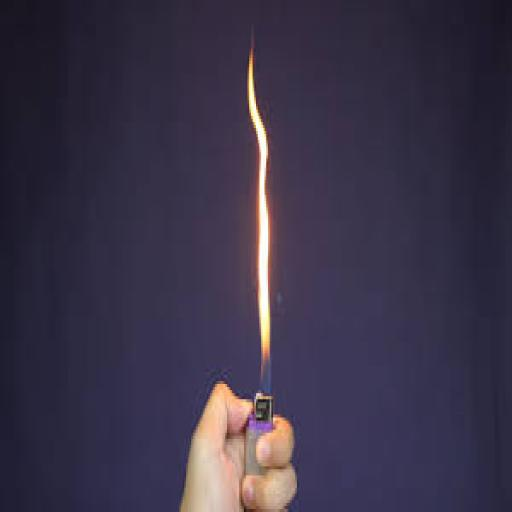fire: (247, 37, 270, 402)
